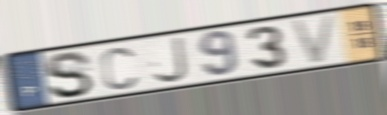3: (246, 25, 290, 70)
9: (197, 28, 240, 79)
C: (99, 46, 139, 93)
J: (152, 34, 191, 85)
S: (43, 50, 96, 100)
V: (287, 12, 340, 67)
